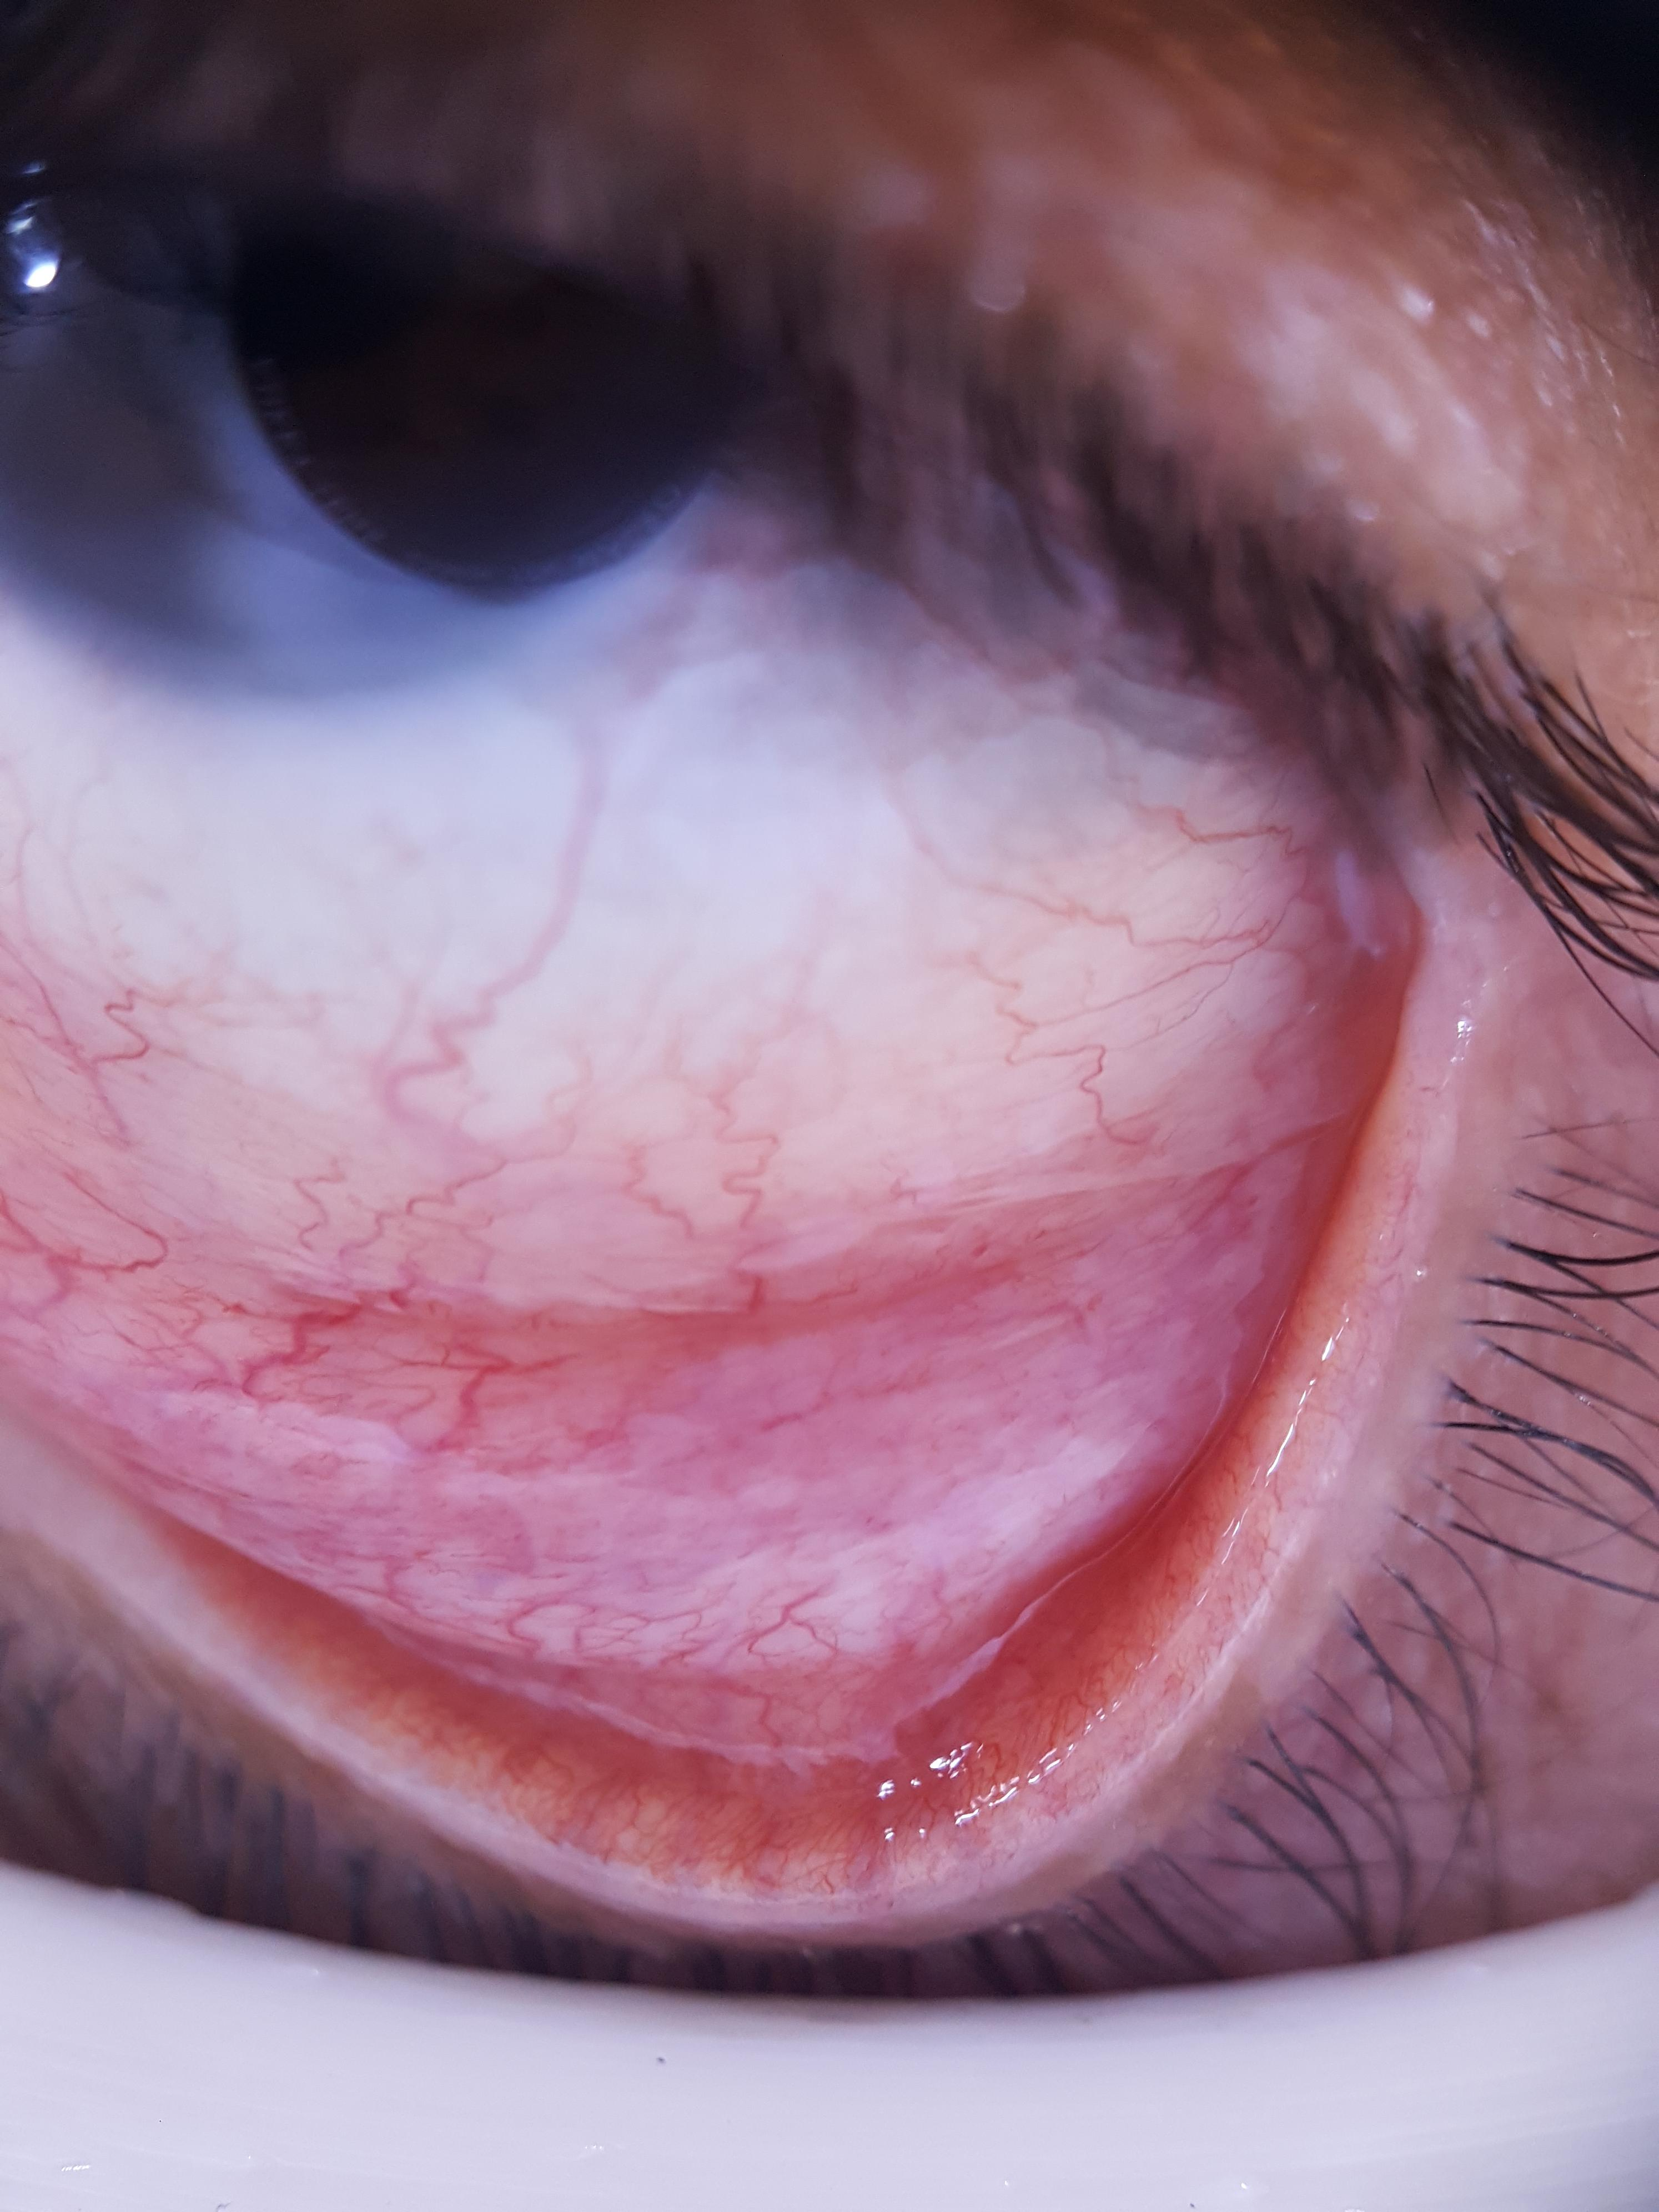forniceal: (0, 831, 1413, 1764)
forniceal_palpebral: (0, 827, 1431, 1874)
palpebral: (150, 920, 1425, 1869)
